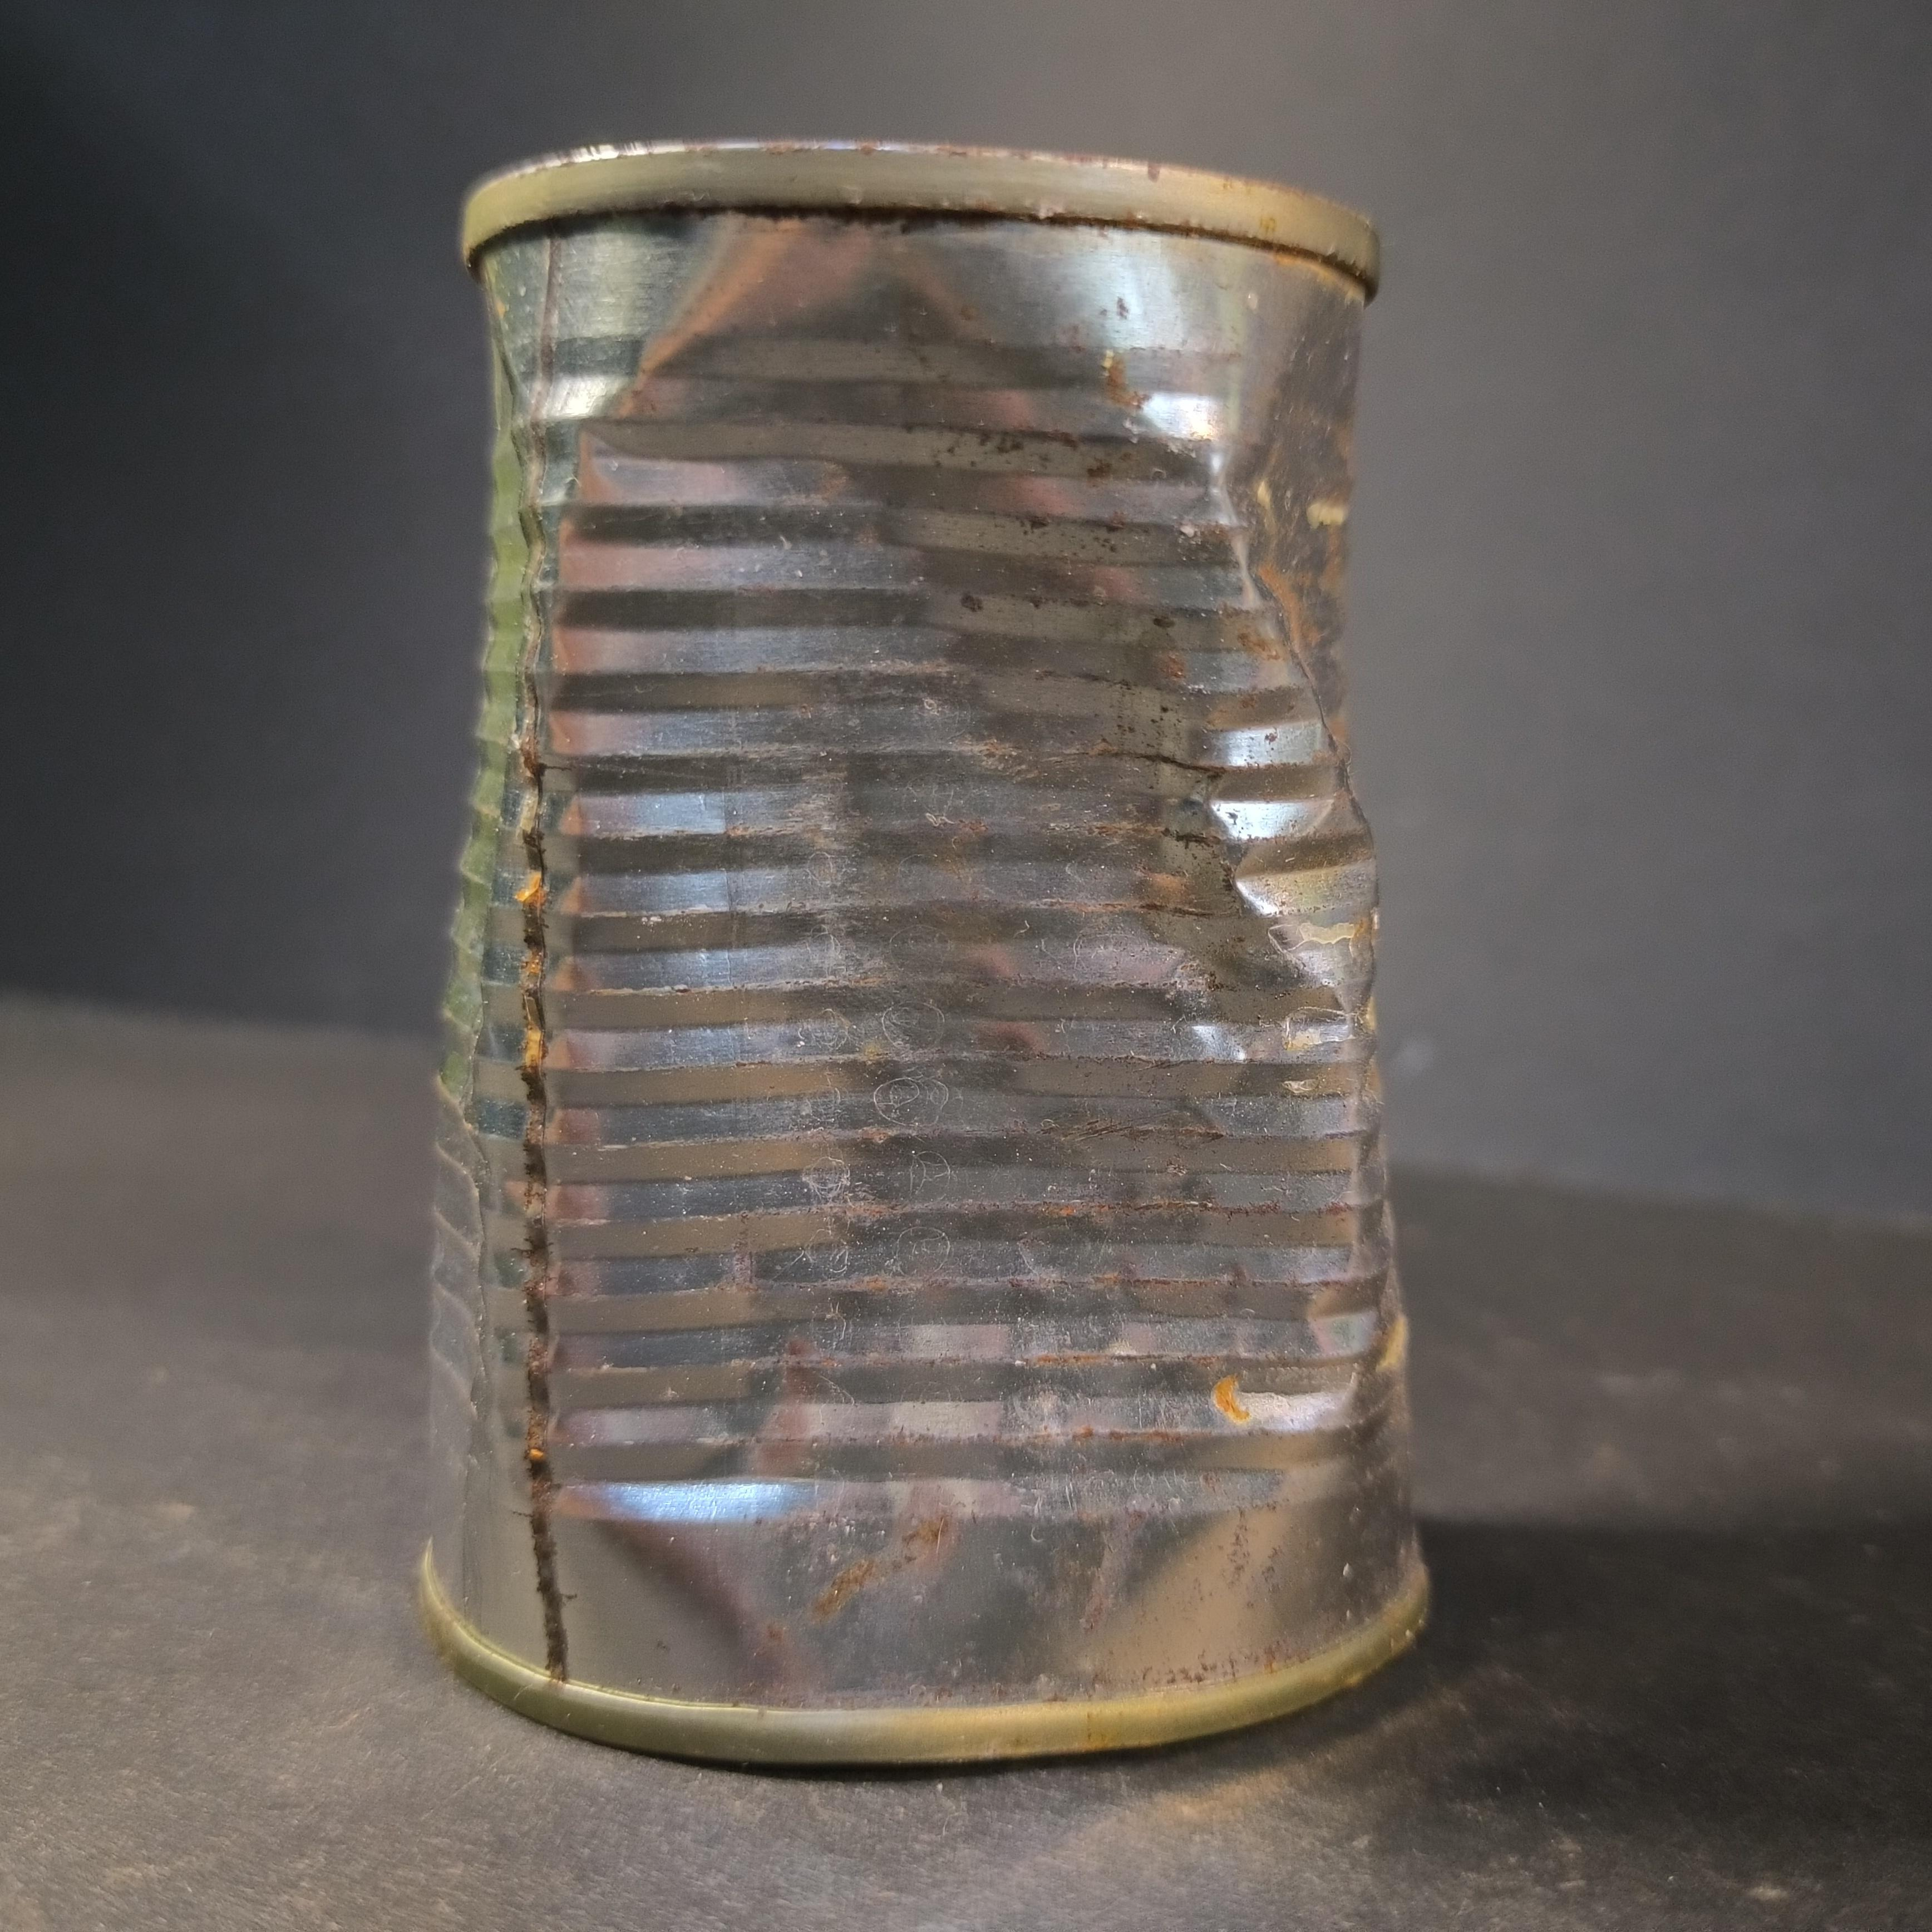Dented: (392, 106, 1491, 1783)
